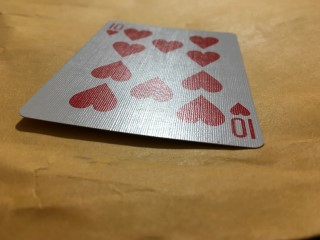TenOfHearts: (20, 20, 264, 149)
